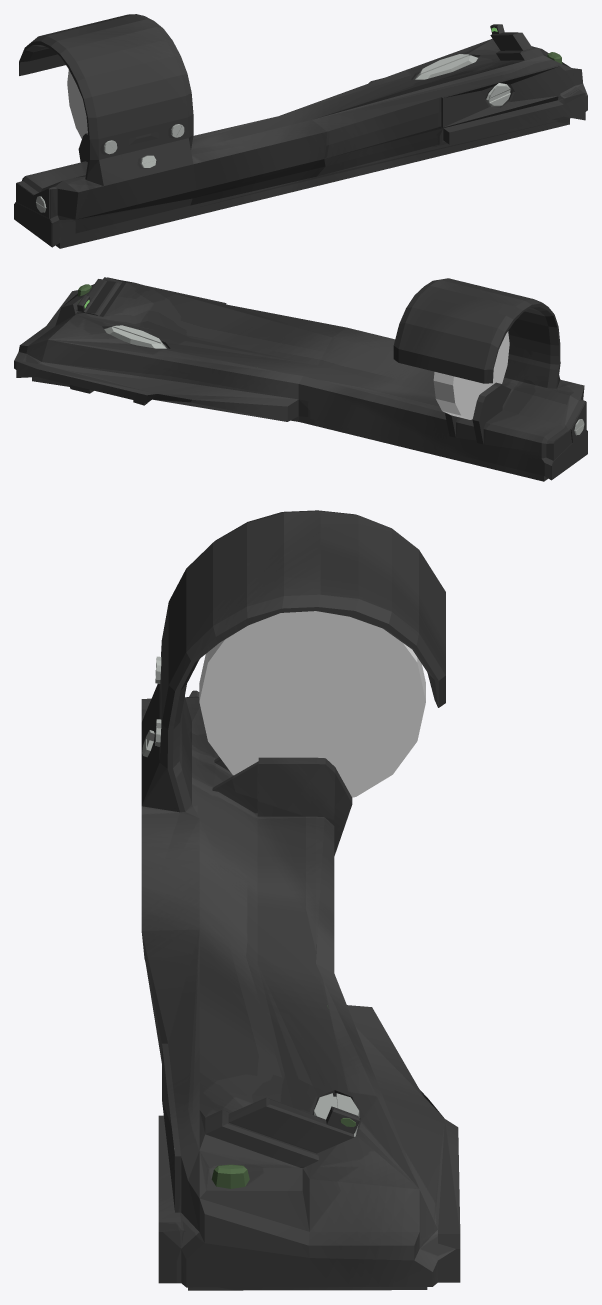
File: OKP-07.fbx
3 renders of one model, top to bottom at view 1: azimuth 30°, elevation 25°; view 2: azimuth 150°, elevation 25°; view 3: azimuth 270°, elevation 25°, orthographic. The views are drawn at different scales.
Visible parts, largest first — view 1: OKP-07; view 2: OKP-07; view 3: OKP-07.
Part boxes in pixels (bbox=[...]): OKP-07: bbox=[14, 14, 587, 248]; OKP-07: bbox=[14, 277, 587, 481]; OKP-07: bbox=[141, 510, 460, 1290].
Bounding box in the file's own units: 25.88 × 8.03 × 6.95.
Materials: 2 (1 with a texture image).
